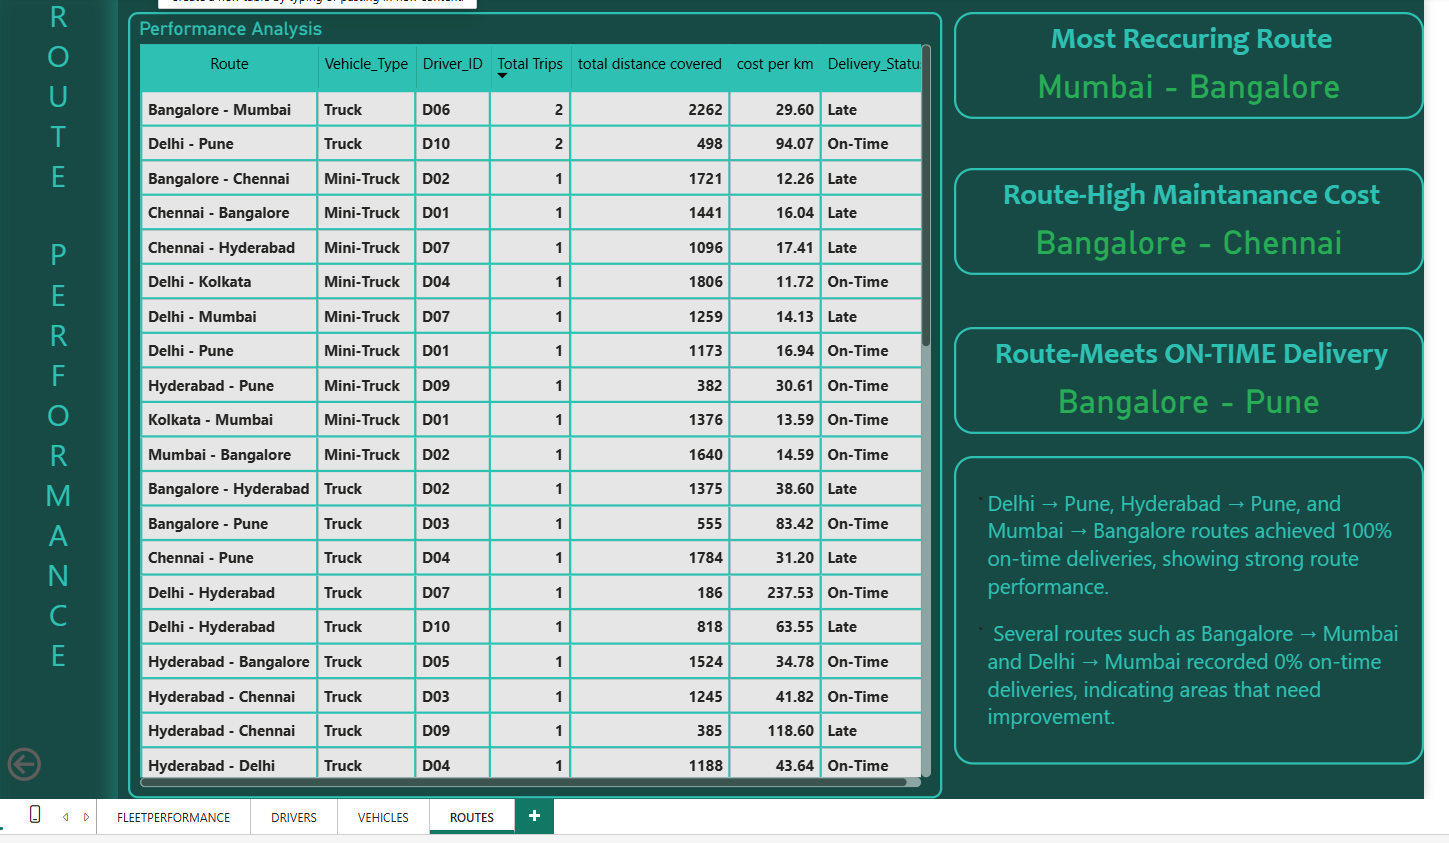

This screenshot's page, from the dashboard's own definition file:
{"tool":"powerbi","page":{"name":"ROUTES","canvas":[1280,720],"ordinal":3},"visuals":[{"type":"tableEx","title":"Performance Analysis","fields":{"Values":["Table1.Route","Vehicle_Master.Vehicle_Type","Table1.Driver_ID","measure.Total Trips","measure.total distance covered","measure.cost per km","Table1.Delivery_Status"]},"box":[116.7,13.6,731.4,706.1],"z":0},{"type":"textbox","box":[0,0,108,1079.6],"z":1000},{"type":"actionButton","box":[3.9,669.2,100.2,39.9],"z":2000},{"type":"card","title":"Most Reccuring  Route","fields":{"Values":["Min(Table1.Route)"]},"box":[857.9,13.6,422.1,96.3],"z":3000},{"type":"card","title":"Route-High Maintanance Cost","fields":{"Values":["Min(Table1.Route)"]},"box":[857.9,153.7,422.1,96.3],"z":4000},{"type":"card","title":"Route-Meets ON-TIME Delivery","fields":{"Values":["Min(Table1.Route)"]},"box":[857.9,296.7,422.1,96.3],"z":5000},{"type":"textbox","box":[857.9,412.4,422.1,277.2],"z":6000}]}

Visuals, with their boxes on the page's 1280x720 design canvas (x1, y1, x2, y2). These are canvas units, not pixel positions in the 1449x843 screenshot, which may show the page scaled, cropped or inside an application window:
"Performance Analysis" tableEx: x1=117 y1=14 x2=848 y2=720
textbox: x1=0 y1=0 x2=108 y2=1080
actionButton: x1=4 y1=669 x2=104 y2=709
"Most Reccuring  Route" card: x1=858 y1=14 x2=1280 y2=110
"Route-High Maintanance Cost" card: x1=858 y1=154 x2=1280 y2=250
"Route-Meets ON-TIME Delivery" card: x1=858 y1=297 x2=1280 y2=393
textbox: x1=858 y1=412 x2=1280 y2=690
